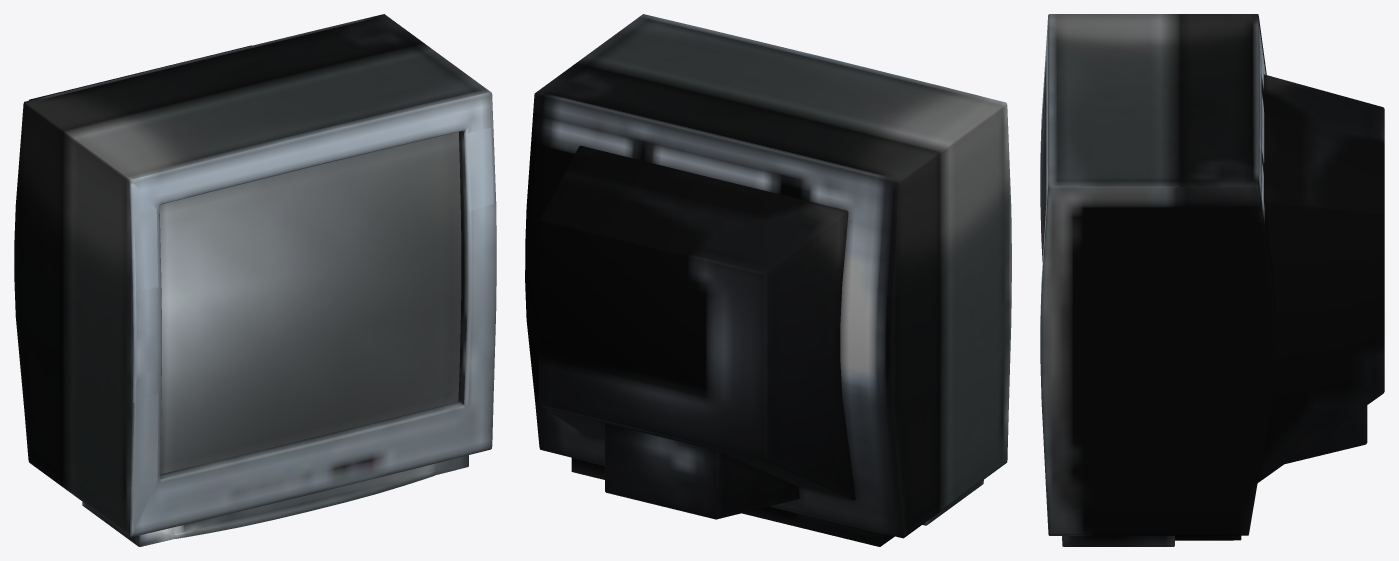
3 renders of one model, left to right at view 1: azimuth 30°, elevation 25°; view 2: azimuth 150°, elevation 25°; view 3: azimuth 270°, elevation 25°, orthographic. The views are drawn at different scales.
Visible parts, largest first — view 1: tv_2; view 2: tv_2; view 3: tv_2.
Part boxes in pixels (x1,y1,x2,y2): tv_2: (14,14,496,546); tv_2: (525,14,1011,546); tv_2: (1040,14,1384,546).
Bounding box in the file's own units: 0.5941 × 0.5896 × 0.4981.
